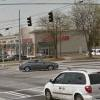Car: (37, 71, 100, 99)
